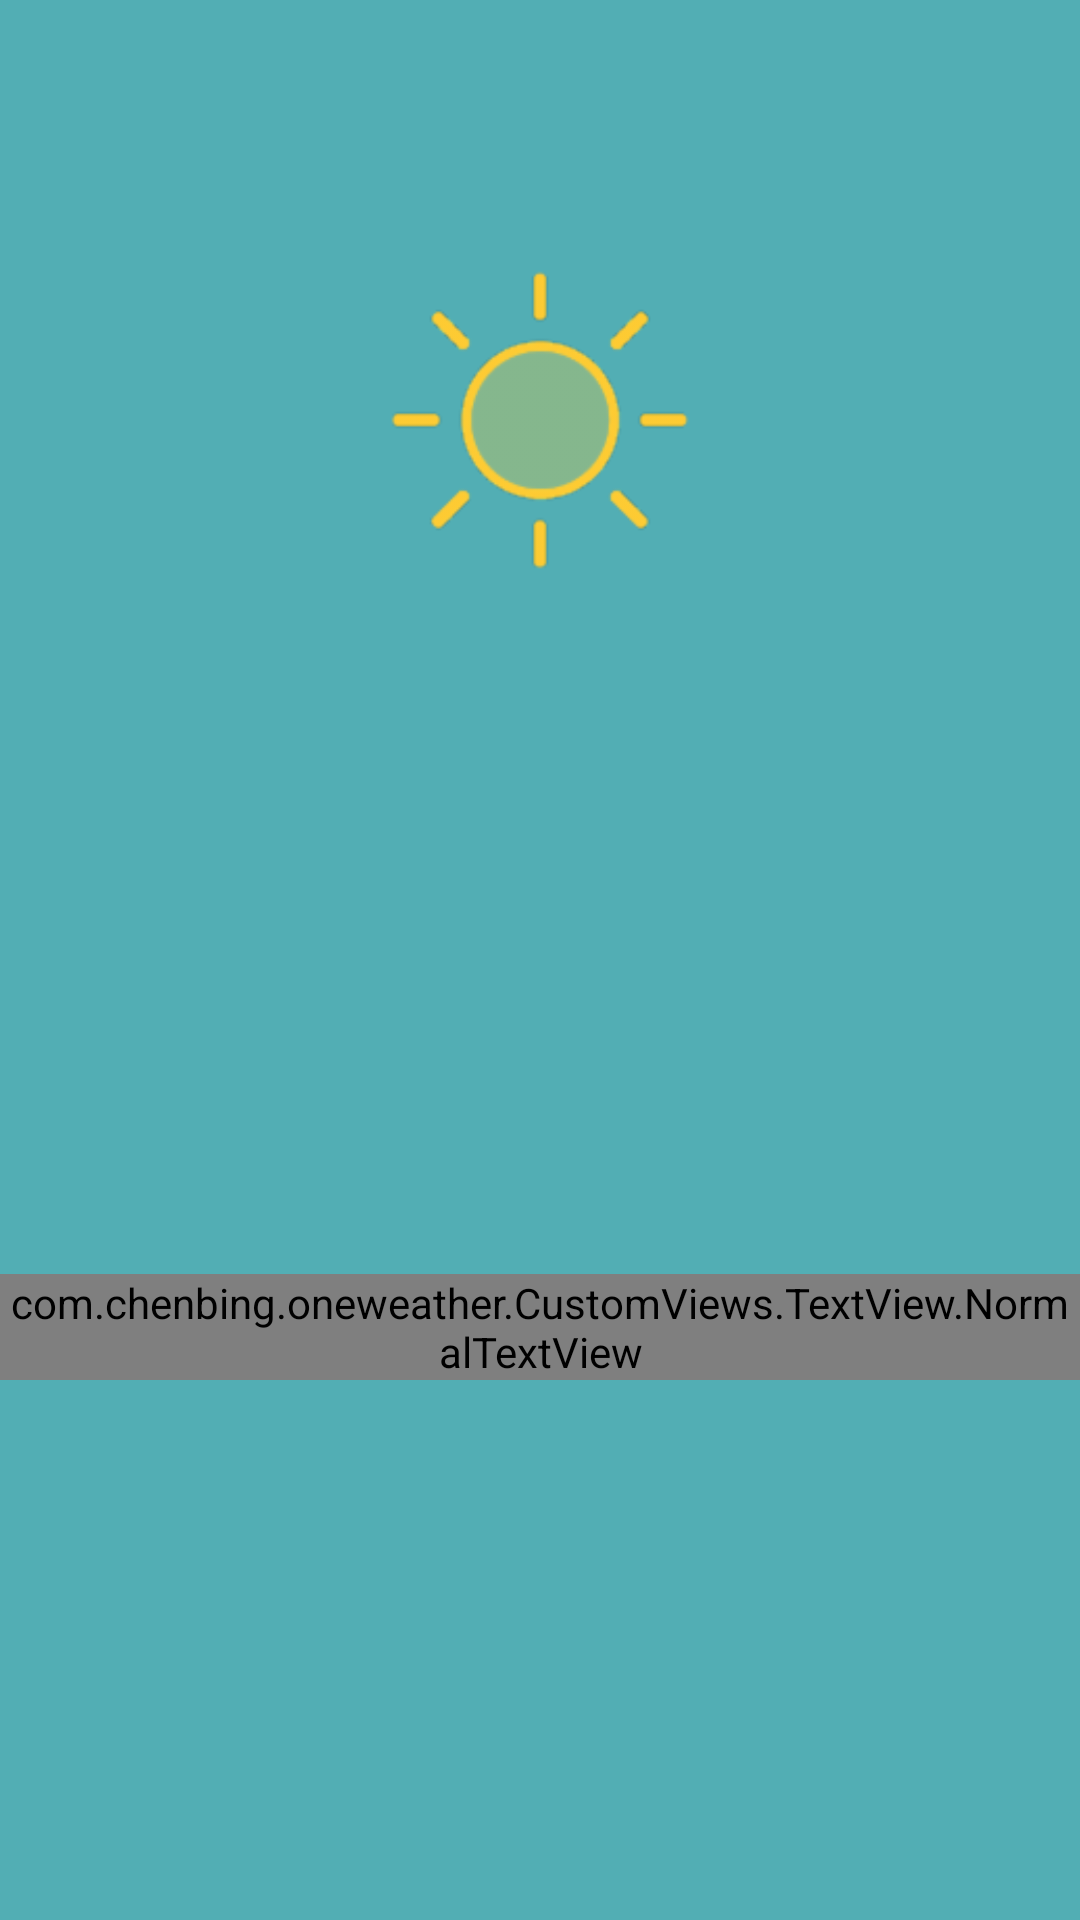

Named icons in this screenshot (1080px×1920px) and their centers, point (x, y):
sun: point (540, 420)
